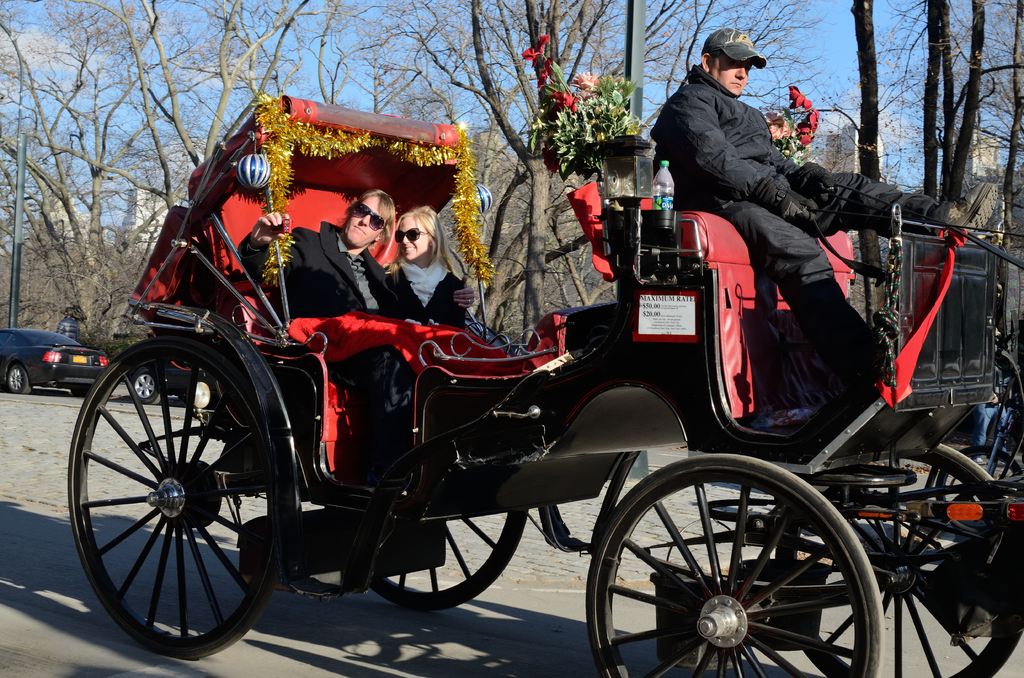Car: (0, 326, 110, 395), (123, 360, 207, 405)
